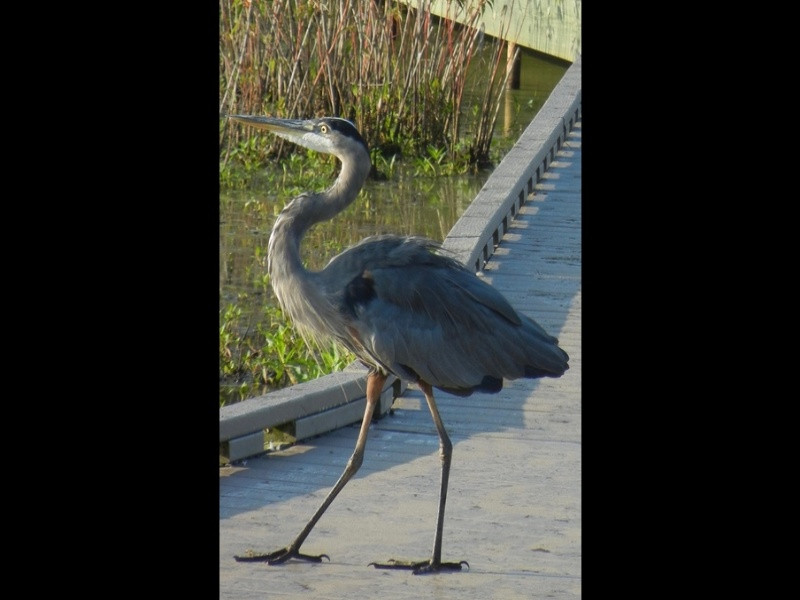heron: (228, 106, 569, 574)
